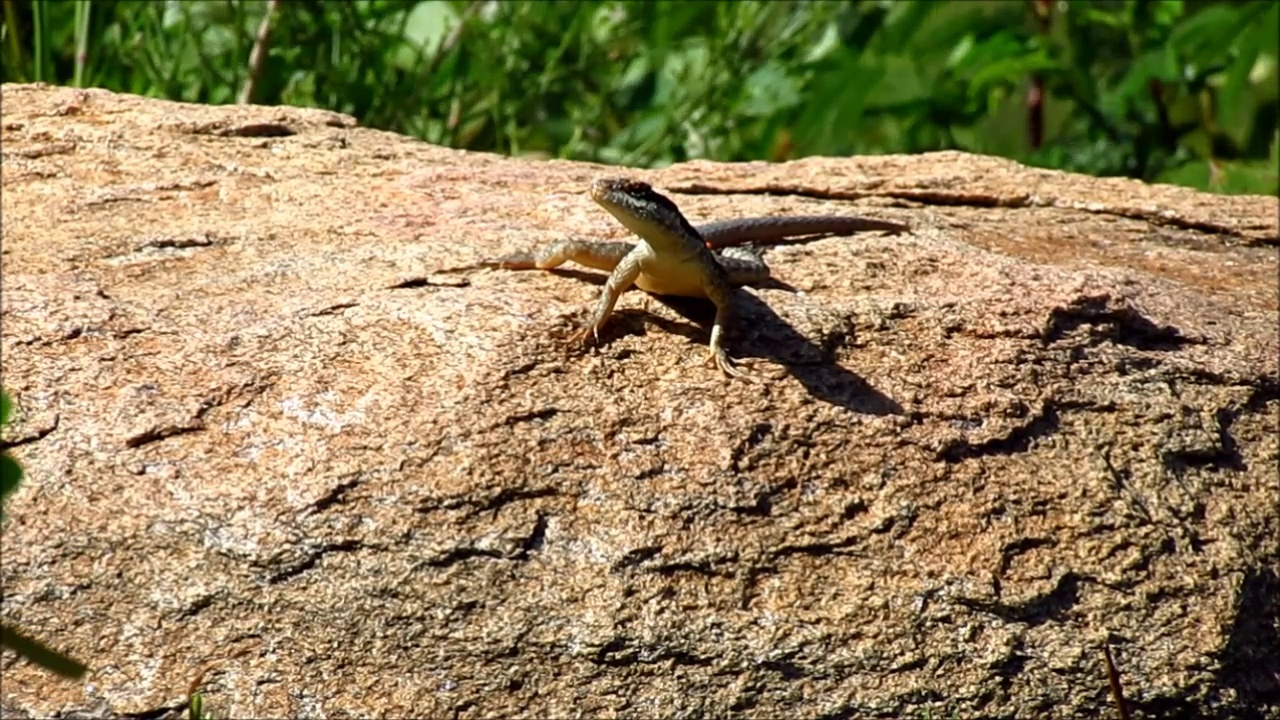body: (479, 213, 912, 381)
head: (590, 177, 672, 237)
